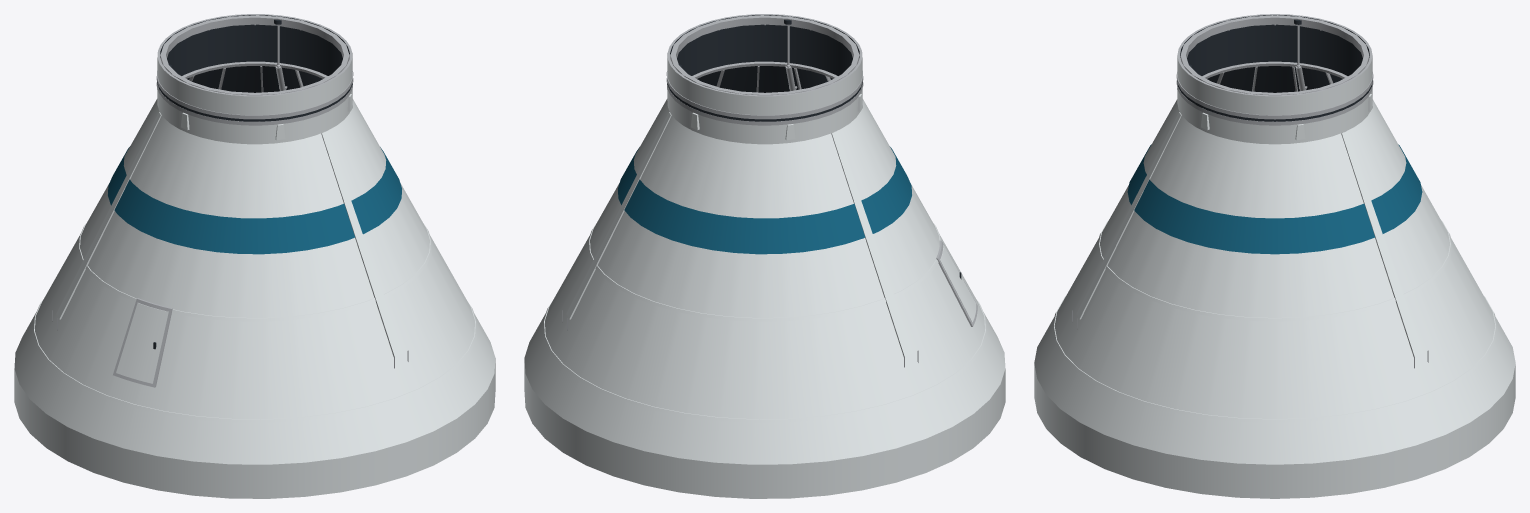
The model's file is interstage_pneumatic_d37_to_d15.glb.
3 renders of one model, left to right at view 1: azimuth 30°, elevation 25°; view 2: azimuth 150°, elevation 25°; view 3: azimuth 270°, elevation 25°, orthographic.
Parts seen in each view (by area): view 1: interstage_pneumatic_d37_to_d15_mesh; view 2: interstage_pneumatic_d37_to_d15_mesh; view 3: interstage_pneumatic_d37_to_d15_mesh.
Part boxes in pixels (box(x1,y1,x2,y2)): interstage_pneumatic_d37_to_d15_mesh: box(14, 14, 495, 498); interstage_pneumatic_d37_to_d15_mesh: box(524, 14, 1005, 498); interstage_pneumatic_d37_to_d15_mesh: box(1034, 14, 1515, 498).
Bounding box in the file's own units: 3.7 × 2.9 × 3.7.
